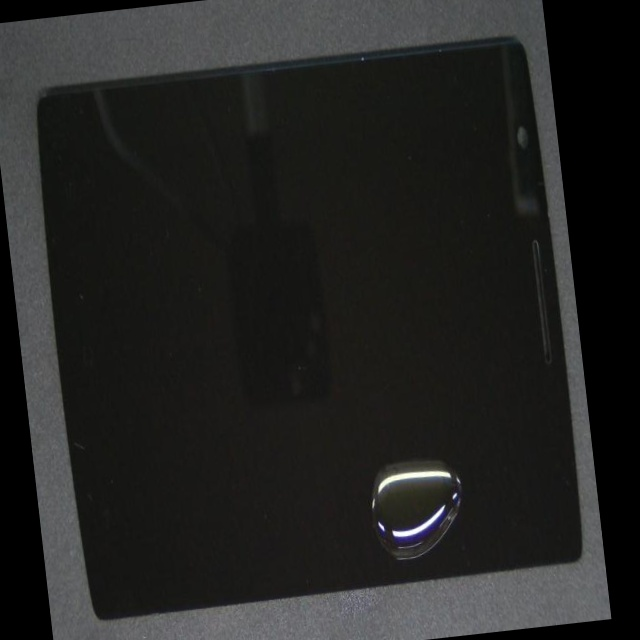oil: (253, 217, 611, 640)
